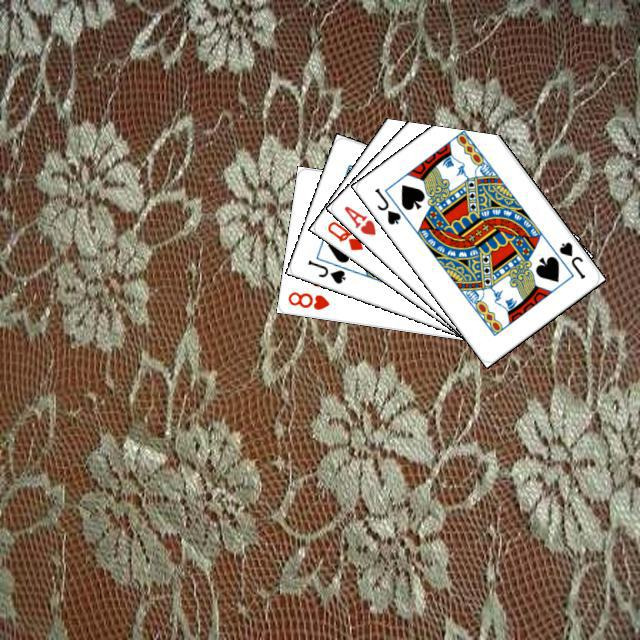8h: (283, 287, 331, 311)
Ah: (339, 201, 378, 237)
Js: (369, 183, 403, 226), (554, 237, 587, 281), (303, 255, 347, 285)
Qd: (322, 216, 365, 252)
